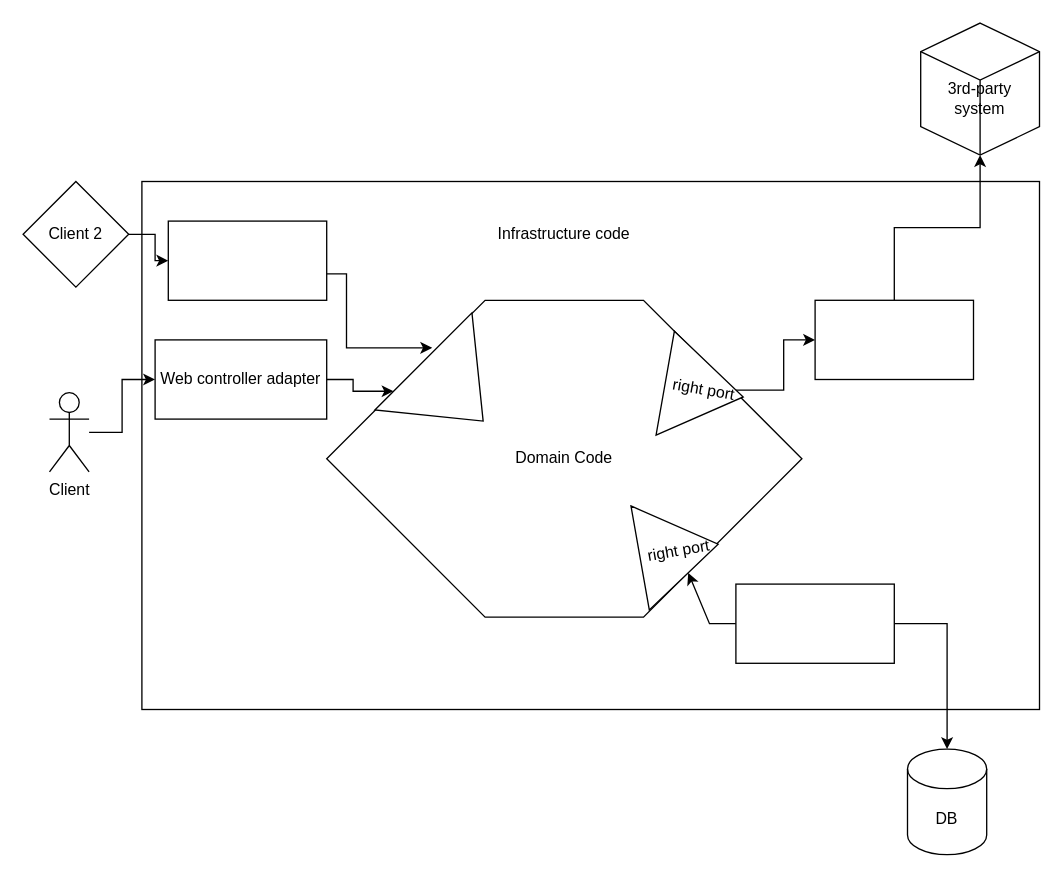
The diagram is 1063 pixels wide and 878 high, and some of its shapes have lost their labels. The shapes that lost their labels are listed below. From the top down, each one's centre as x and y in pixels, then its label:
At pixel 247 260: "Slack bot adapter".
At pixel 894 339: "File storage adapter".
At pixel 452 390: "left port".
At pixel 814 623: "DB Adapter".
